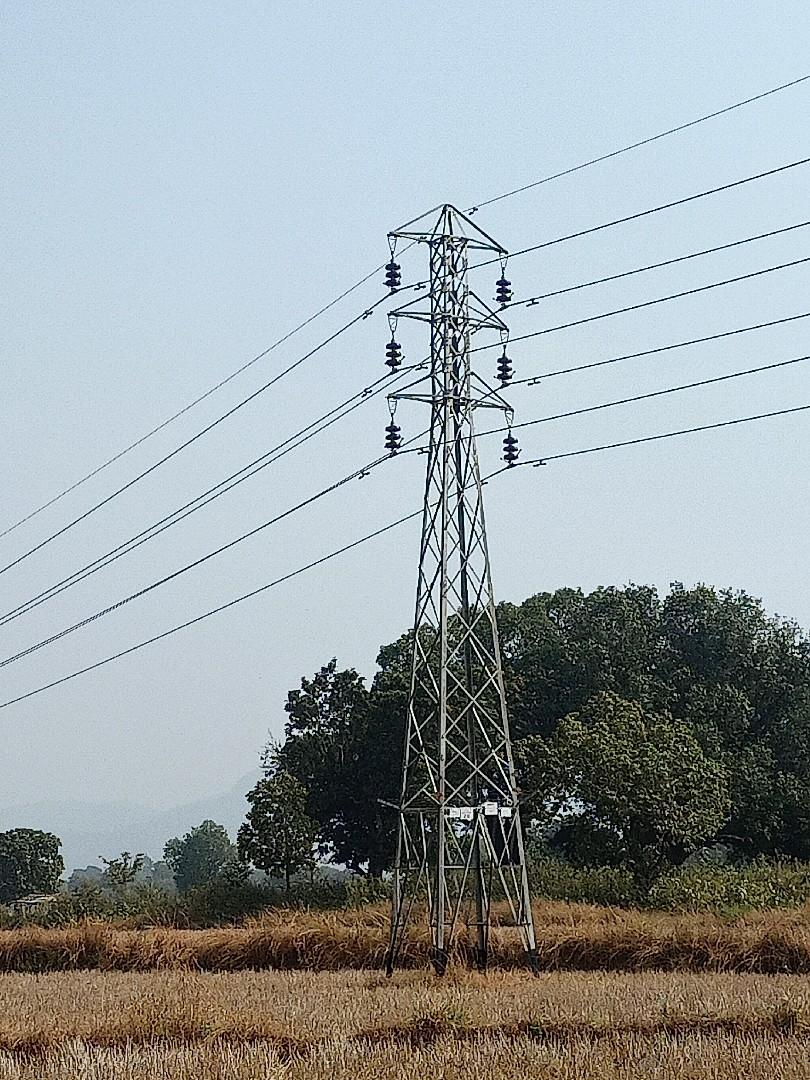GSM Antenna: (370, 201, 545, 917)
